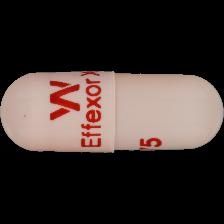35356-852: (0, 0, 224, 224)
